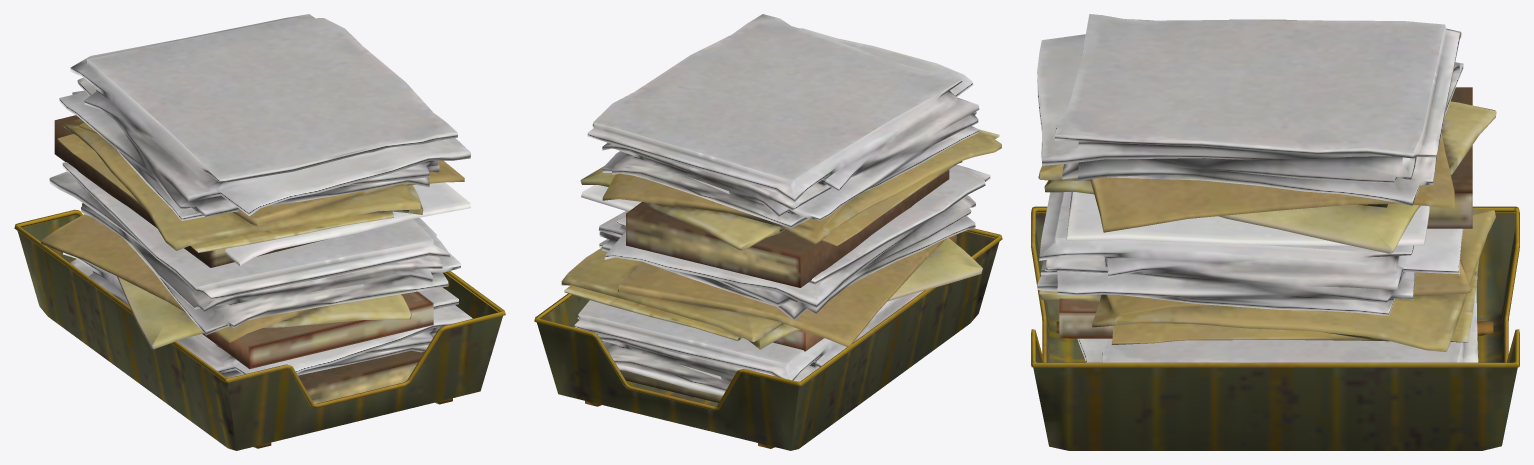
File: 056_wiredocumenttray01a.fbx
The picture shows the model from 3 angles, left to right: view 1: azimuth 30°, elevation 25°; view 2: azimuth 150°, elevation 25°; view 3: azimuth 270°, elevation 25°; orthographic projection. The views are drawn at different scales.
Parts seen in each view (by area): view 1: LOD_1_Group_0_Sub_1__sm36_056_WireDocumentTray01A_A_Mat__Env; view 2: LOD_1_Group_0_Sub_1__sm36_056_WireDocumentTray01A_A_Mat__Env; view 3: LOD_1_Group_0_Sub_1__sm36_056_WireDocumentTray01A_A_Mat__Env.
Part boxes in pixels (left/top/right/bottom): LOD_1_Group_0_Sub_1__sm36_056_WireDocumentTray01A_A_Mat__Env: left=14, top=14, right=505, bottom=450; LOD_1_Group_0_Sub_1__sm36_056_WireDocumentTray01A_A_Mat__Env: left=534, top=14, right=1002, bottom=450; LOD_1_Group_0_Sub_1__sm36_056_WireDocumentTray01A_A_Mat__Env: left=1031, top=14, right=1519, bottom=450.
Bounding box in the file's own units: 0.3108 × 0.2569 × 0.3661.
